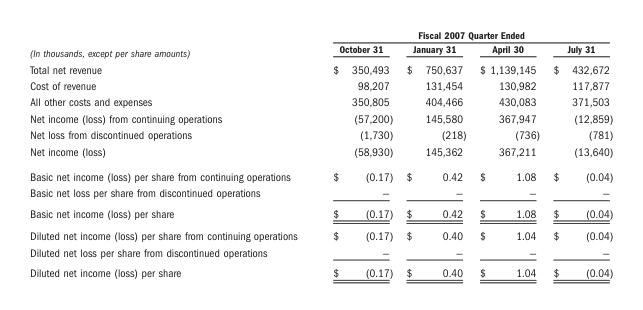table: (29, 29, 612, 278)
table column: (29, 29, 314, 278), (314, 29, 398, 278), (398, 29, 472, 278), (472, 29, 545, 278), (545, 29, 612, 278)
table column header: (29, 29, 612, 60)
table row: (29, 202, 612, 224), (29, 142, 612, 163), (29, 163, 612, 184), (29, 224, 612, 243), (29, 243, 612, 262), (29, 42, 612, 60), (29, 184, 612, 202), (29, 60, 612, 77), (29, 109, 612, 126), (29, 77, 612, 93), (29, 93, 612, 109), (29, 126, 612, 142), (29, 262, 612, 278), (29, 29, 612, 42)
table spanning cell: (29, 29, 314, 60), (314, 29, 612, 42)
